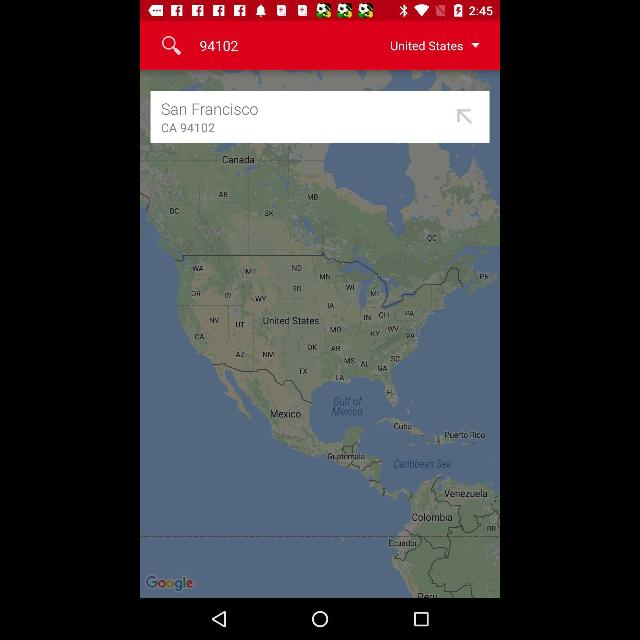icon: (162, 34, 180, 56), (456, 107, 472, 129), (212, 611, 228, 629), (313, 611, 327, 629), (414, 612, 428, 626)
input: (199, 36, 373, 56)
map: (140, 70, 500, 600)
panel: (150, 90, 490, 142), (140, 600, 500, 640)
switch: (390, 38, 482, 54)
text: (159, 102, 259, 115), (158, 122, 216, 134), (200, 41, 240, 55)
toolbar: (140, 22, 500, 70)
uppertaskbar: (140, 1, 500, 22)
